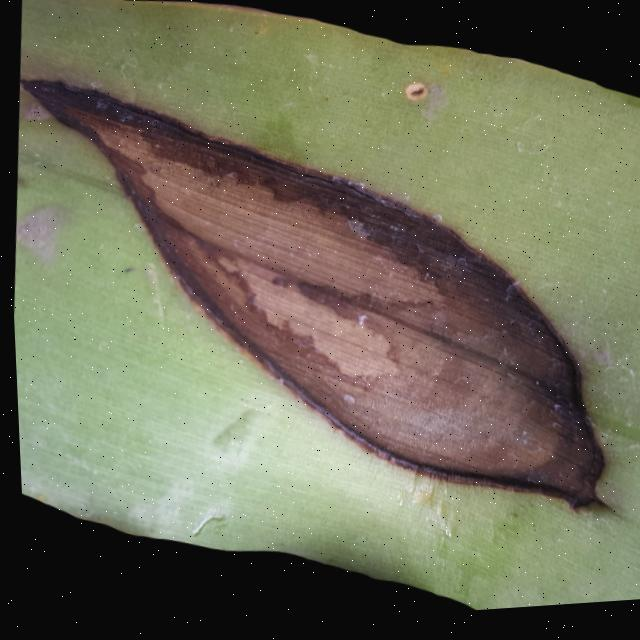mite: (12, 164, 140, 285), (305, 81, 431, 114), (387, 73, 444, 123), (106, 254, 145, 288), (497, 510, 536, 542), (397, 81, 432, 112), (402, 85, 427, 107), (114, 260, 137, 281), (498, 511, 519, 531), (316, 93, 333, 111), (91, 97, 109, 113), (15, 169, 26, 189), (119, 265, 133, 276), (504, 516, 515, 526), (320, 97, 329, 107)
sunburn: (11, 74, 618, 521)
